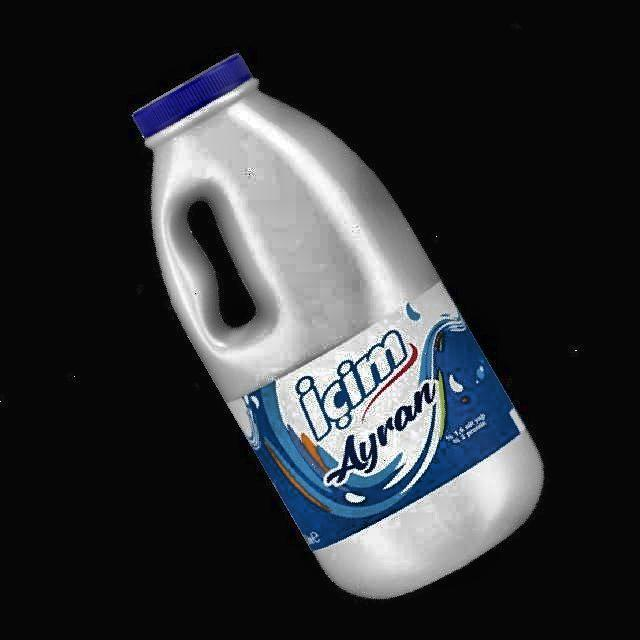plastic: (134, 55, 542, 598)
